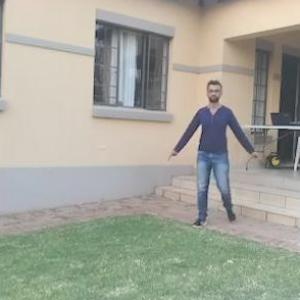land: (170, 84, 260, 224)
